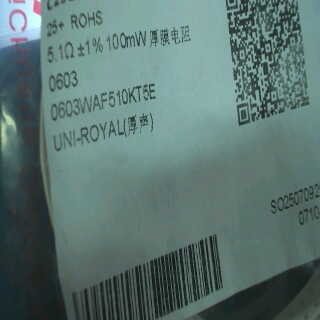5.1R: (45, 37, 75, 67)
